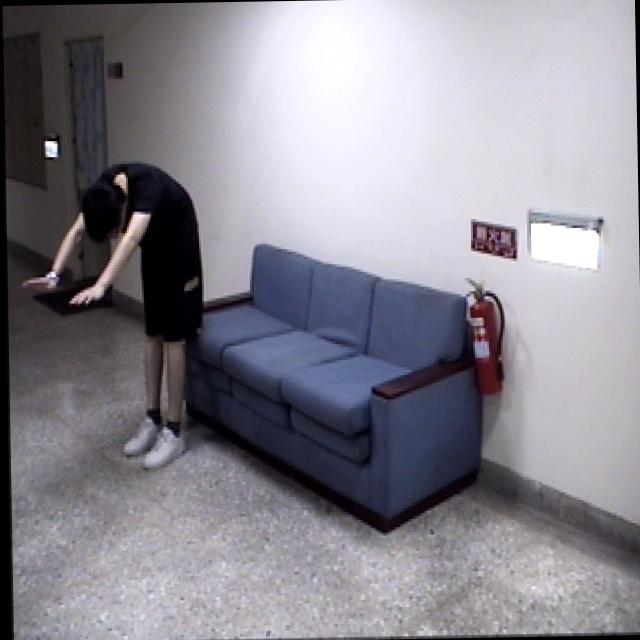bend: (14, 160, 207, 478)
